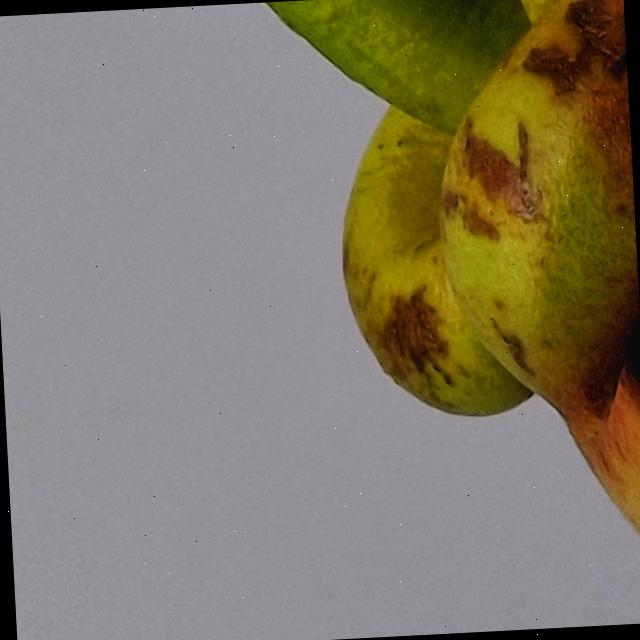mangosteen: (168, 0, 640, 640)
